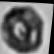correct: (0, 0, 49, 54)
